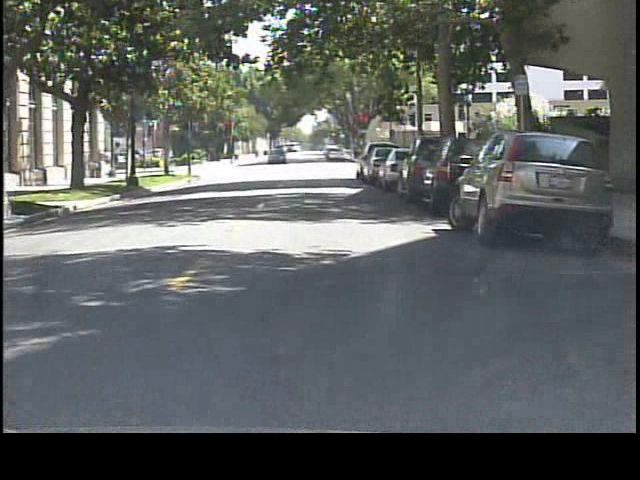person: (231, 141, 243, 167)
